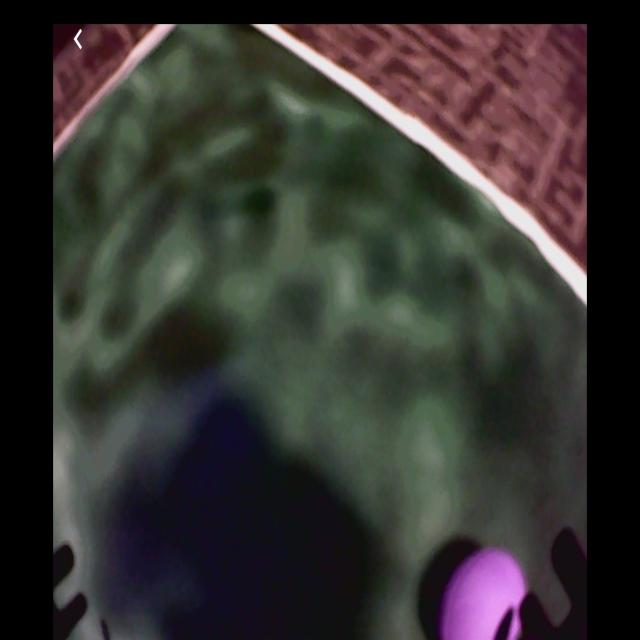ball: (439, 549, 530, 640)
